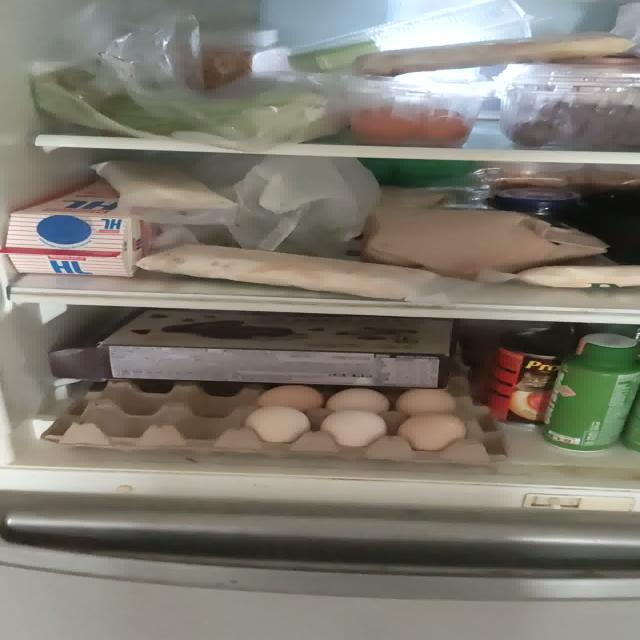egg: (40, 379, 508, 464)
grape: (501, 91, 640, 149)
leafy_greens: (33, 64, 350, 140)
tempeh: (135, 242, 439, 300), (356, 30, 632, 80), (82, 153, 234, 217)
